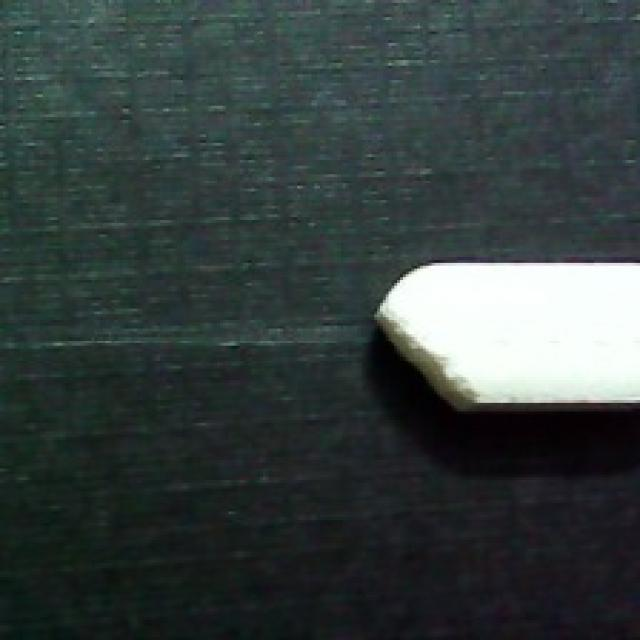defected: (366, 237, 640, 417)
